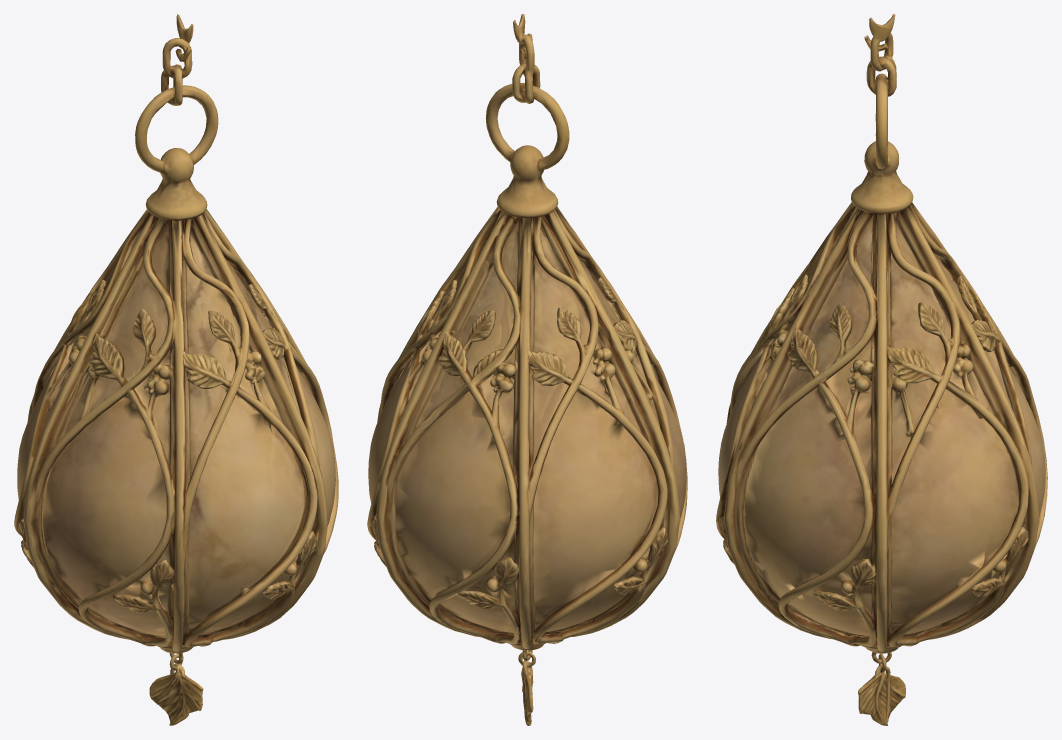
File: bow_lantern.glb
3 views of the same model, side by side, from view 1: azimuth 30°, elevation 25°; view 2: azimuth 150°, elevation 25°; view 3: azimuth 270°, elevation 25° (orthographic).
Visible parts, largest first — view 1: tripo_node_35dc88bc-8b60-4e3e-833e-3ddb9605a589; view 2: tripo_node_35dc88bc-8b60-4e3e-833e-3ddb9605a589; view 3: tripo_node_35dc88bc-8b60-4e3e-833e-3ddb9605a589.
Boxes of the visible parts, x1=… form: tripo_node_35dc88bc-8b60-4e3e-833e-3ddb9605a589: x1=14, y1=14, x2=338, y2=725; tripo_node_35dc88bc-8b60-4e3e-833e-3ddb9605a589: x1=367, y1=14, x2=687, y2=725; tripo_node_35dc88bc-8b60-4e3e-833e-3ddb9605a589: x1=716, y1=14, x2=1047, y2=725.
Size of the model in its own units: 0.4431 by 0.9842 by 0.4126.
Materials: 1 (1 with a texture image).
